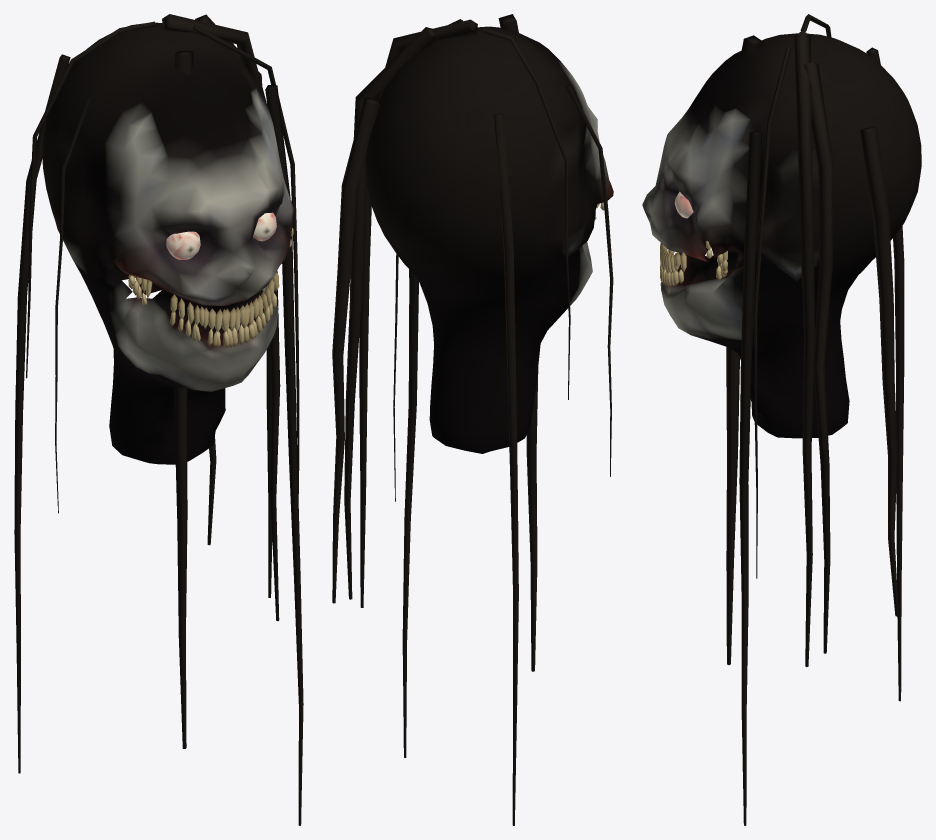
File: grinner_face_xlo.glb
The picture shows the model from 3 angles, left to right: view 1: azimuth 30°, elevation 25°; view 2: azimuth 150°, elevation 25°; view 3: azimuth 270°, elevation 25°; orthographic projection. The views are drawn at different scales.
Parts seen in each view (by area): view 1: grinner_face_lo; view 2: grinner_face_lo; view 3: grinner_face_lo.
Part boxes in pixels (x1,y1,x2,y2): grinner_face_lo: [14, 14, 303, 825]; grinner_face_lo: [332, 14, 613, 825]; grinner_face_lo: [642, 14, 921, 825].
Size of the model in its own units: 0.2153 by 0.6727 by 0.2272.
